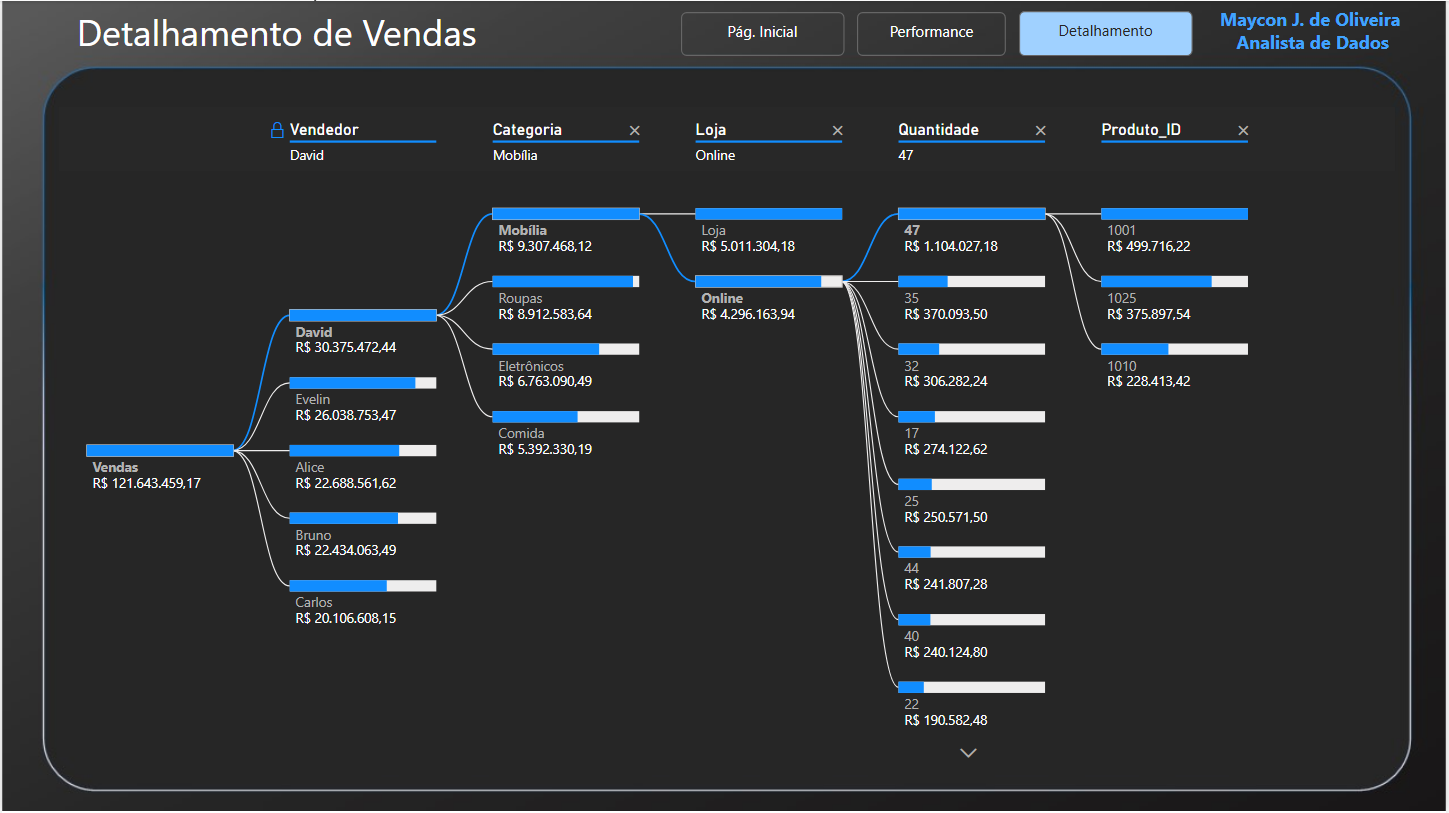

This screenshot's page, from the dashboard's own definition file:
{"tool":"powerbi","page":{"name":"Detalhamento","canvas":[1280,720],"ordinal":2},"visuals":[{"type":"decompositionTreeVisual","fields":{"Analyze":["#Medidas.Vendas"],"ExplainBy":["Vendas.Vendedor","Vendas.Categoria","Base_Vendas.Loja","Vendas.Quantidade","Vendas.Produto_ID"]},"box":[45.5,89.1,1195.5,598.2],"z":0},{"type":"textbox","box":[901.8,9.1,153.6,40],"z":1000},{"type":"textbox","box":[758.1,9.8,132.1,39],"z":2000},{"type":"textbox","box":[61.3,0,501.4,58],"z":3000},{"type":"textbox","box":[1044.5,0,235.5,79.1],"z":4000},{"type":"textbox","box":[602.1,9.8,144.5,39],"z":5000},{"type":"actionButton","box":[601.2,9.8,145.4,39],"z":6000},{"type":"actionButton","box":[758.1,9.8,132.1,39.9],"z":7000}]}

Visuals, with their boxes in screenshot pixels (x1, y1, x2, y2), scaled from the page's 1280x720 canvas onto the 1449x813 screenshot:
decompositionTreeVisual - #Medidas.Vendas x Vendas.Vendedor: l=52, t=101, r=1405, b=776
textbox: l=1021, t=10, r=1195, b=55
textbox: l=858, t=11, r=1008, b=55
textbox: l=69, t=0, r=637, b=65
textbox: l=1182, t=0, r=1448, b=89
textbox: l=682, t=11, r=845, b=55
actionButton: l=681, t=11, r=845, b=55
actionButton: l=858, t=11, r=1008, b=56
